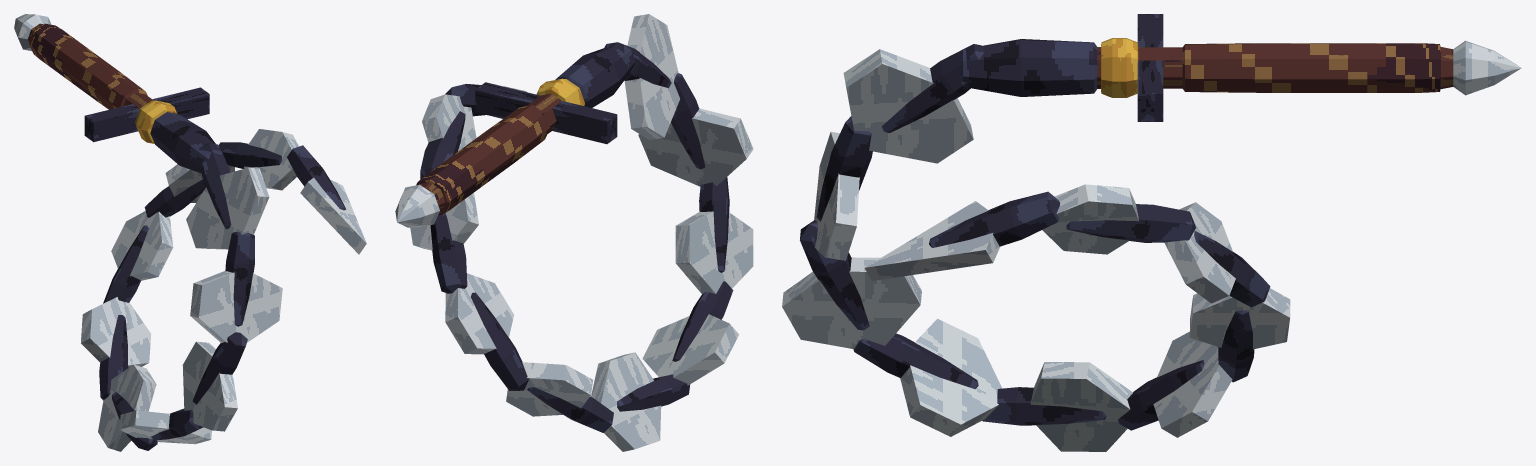
Rendered from peitsche-c-klingen-ruhe.glb.
3 views of the same model, side by side, from view 1: azimuth 30°, elevation 25°; view 2: azimuth 150°, elevation 25°; view 3: azimuth 270°, elevation 25° (orthographic). The views are drawn at different scales.
Visible parts, largest first — view 1: handle, seg02, seg01, seg03, seg06, seg07, seg10, seg05, seg09, seg04, seg08; view 2: handle, seg02, seg03, seg05, seg04, seg01, seg07, seg06, seg08, seg09, seg10; view 3: handle, seg01, seg03, seg04, seg05, seg10, seg09, seg06, seg07, seg02, seg08.
Boxes of the visible parts, box(x1,y1,x2,y2) form: handle: box(14, 14, 225, 173); seg02: box(190, 232, 282, 342); seg01: box(186, 143, 269, 249); seg03: box(182, 332, 247, 431); seg06: box(81, 297, 151, 400); seg07: box(103, 211, 173, 303); seg10: box(287, 145, 366, 254); seg05: box(98, 364, 157, 451); seg09: box(218, 129, 298, 190); seg04: box(119, 408, 211, 444); seg08: box(144, 164, 234, 217); handle: box(395, 45, 635, 227); seg02: box(638, 73, 753, 186); seg03: box(675, 177, 753, 294); seg05: box(591, 352, 690, 451); seg04: box(642, 281, 738, 385); seg01: box(604, 14, 679, 139); seg07: box(445, 273, 528, 390); seg06: box(506, 362, 613, 432); seg08: box(410, 193, 478, 293); seg09: box(420, 94, 476, 179); seg10: box(445, 84, 526, 116); handle: box(959, 14, 1521, 121); seg01: box(843, 44, 983, 163); seg03: box(782, 220, 921, 348); seg04: box(853, 318, 1002, 436); seg05: box(982, 362, 1133, 451); seg10: box(865, 191, 1059, 280); seg09: box(1042, 184, 1196, 254); seg06: box(1118, 331, 1232, 437); seg07: box(1189, 288, 1290, 382); seg02: box(814, 116, 872, 260); seg08: box(1164, 202, 1270, 307).
Size of the model in its own units: 0.3707 by 0.4934 by 0.7314.
Materials: 1 (1 with a texture image).
